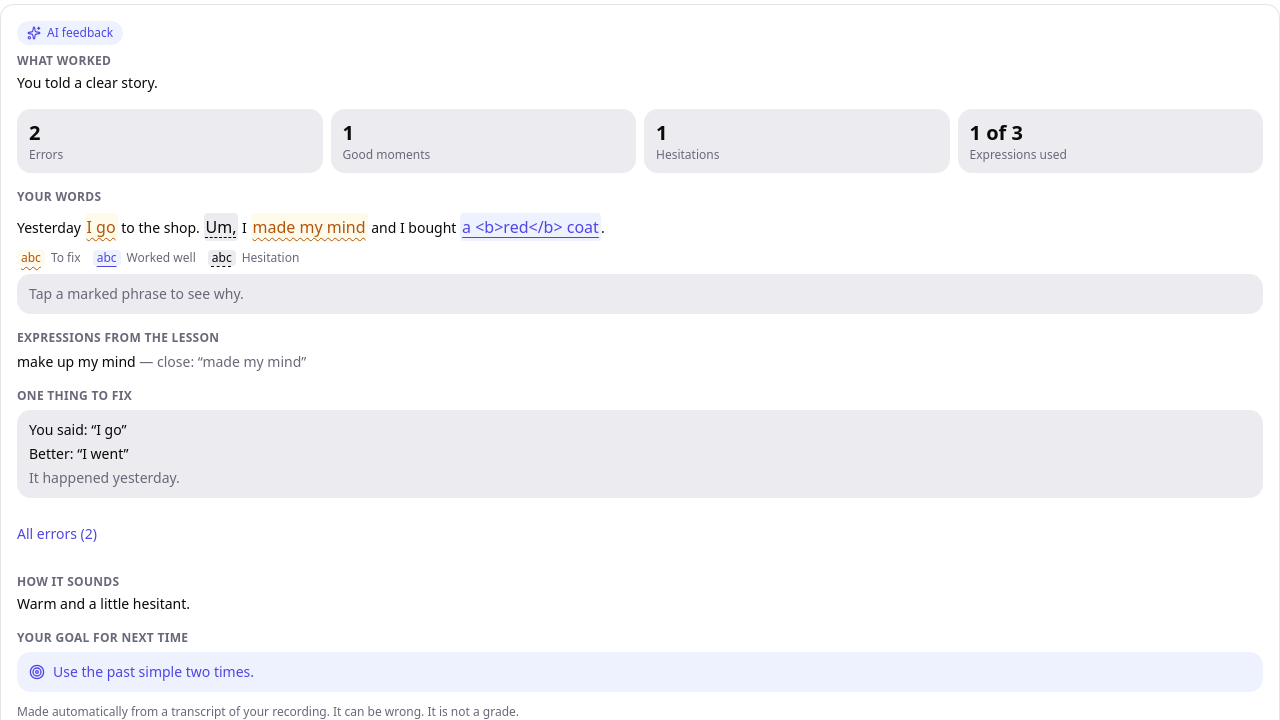
Scenario: a finished analysis › explains a phrase on tap, and the same tap again closes it
Expected: the text "Tap a marked phrase to see why." is shown, [29,284,244,303]
Click the button "I go" at (101, 227), box [84,213,118,241]
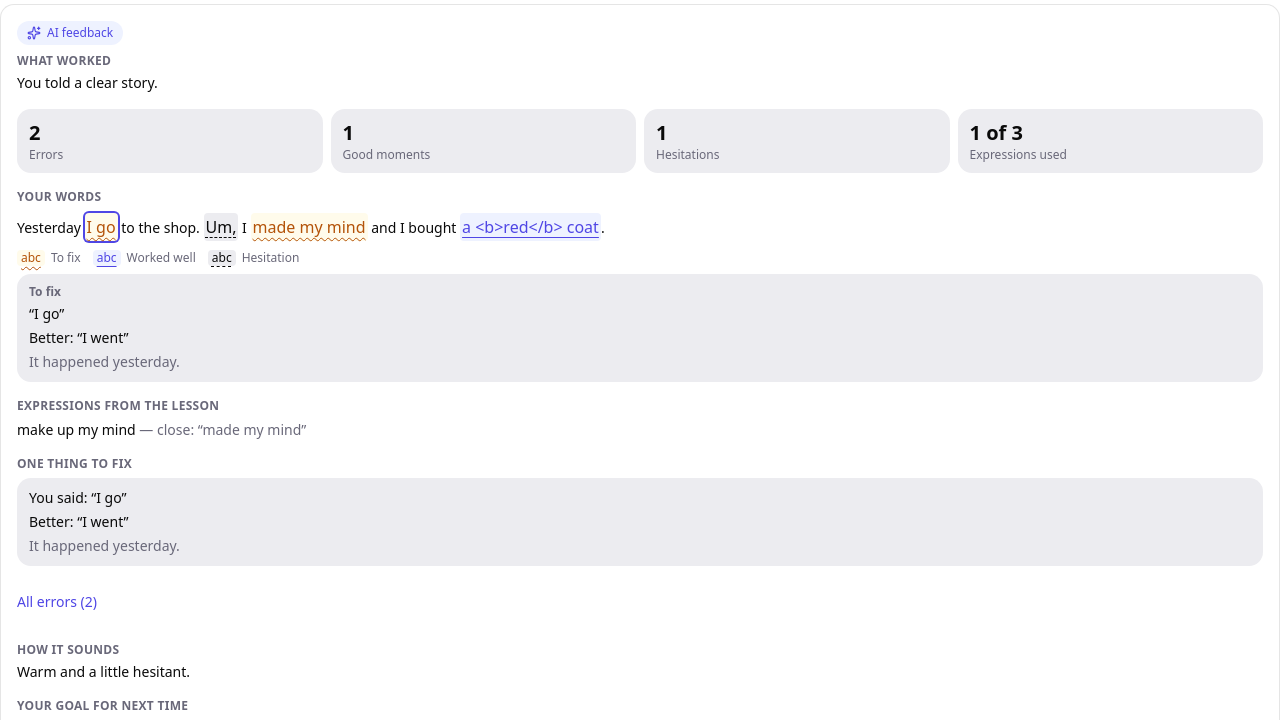
Result: the element showing "To fix “I go” Better: “I went” It happened yesterday." is shown at [17,274,1263,382]
Click the button "I go" at (101, 227), box [84,213,118,241]
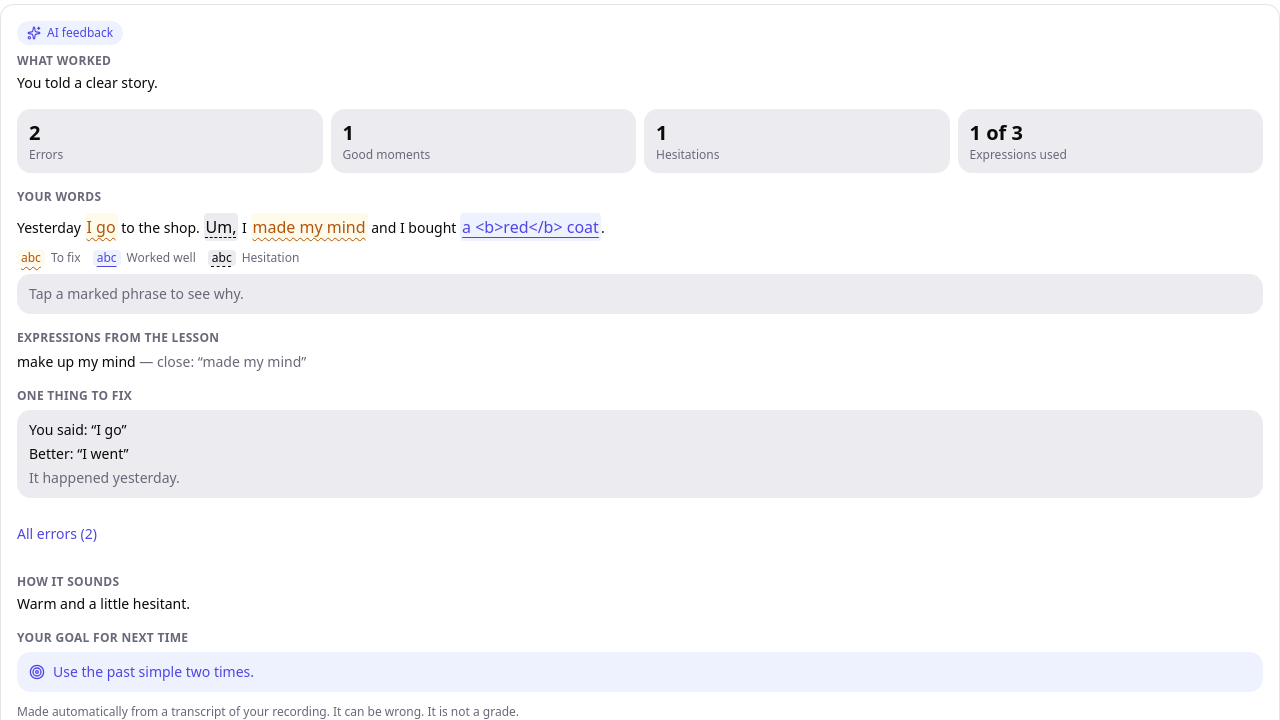
Result: the text "It happened yesterday." is gone
Result: the text "Tap a marked phrase to see why." is shown at [29,284,244,303]
